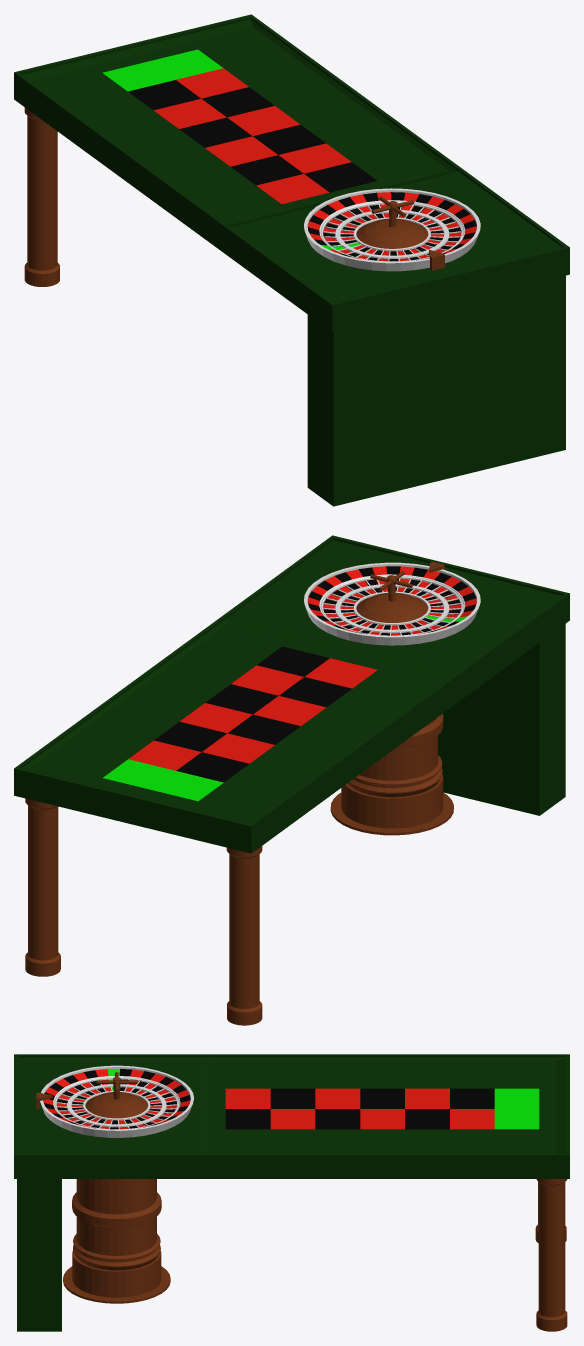
Rendered from roleta.fbx.
3 renders of one model, top to bottom at view 1: azimuth 30°, elevation 25°; view 2: azimuth 150°, elevation 25°; view 3: azimuth 270°, elevation 25°, orthographic. The views are drawn at different scales.
Parts seen in each view (by area): view 1: mesa, Cube, roleta, Circle.006, Circle.002, Circle.001; view 2: mesa, Cube, roleta, Circle, Circle.006, Circle.005, Circle.002, Circle.001; view 3: mesa, Circle, roleta, Cube, Circle.005, Circle.002, Circle.001.
Boxes of the visible parts, x1,y1,x2,y2 form: mesa: (14, 14, 569, 332); Cube: (307, 275, 565, 506); roleta: (304, 188, 480, 271); Circle.006: (24, 107, 59, 286); Circle.002: (356, 201, 428, 248); Circle.001: (323, 204, 460, 261); mesa: (14, 535, 569, 853); Cube: (438, 624, 565, 815); roleta: (304, 562, 480, 645); Circle: (330, 714, 453, 835); Circle.006: (226, 846, 262, 1025); Circle.005: (25, 798, 60, 976); Circle.002: (356, 575, 428, 622); Circle.001: (323, 578, 460, 635); mesa: (14, 1054, 569, 1178); Circle: (63, 1179, 170, 1303); roleta: (40, 1065, 193, 1137); Cube: (17, 1179, 61, 1331); Circle.005: (536, 1179, 567, 1331); Circle.002: (85, 1077, 148, 1118); Circle.001: (56, 1079, 177, 1129).
Bounding box in the file's own units: 759 × 717 × 1764.
